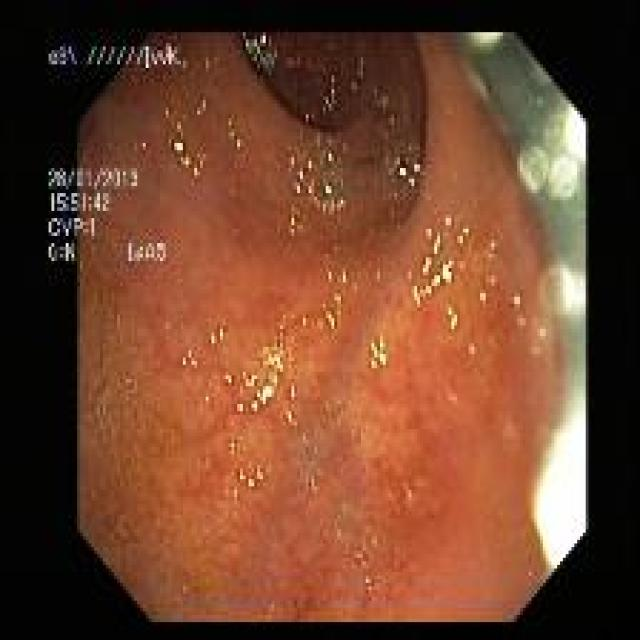ulcerative-colitis: (78, 33, 566, 621)
